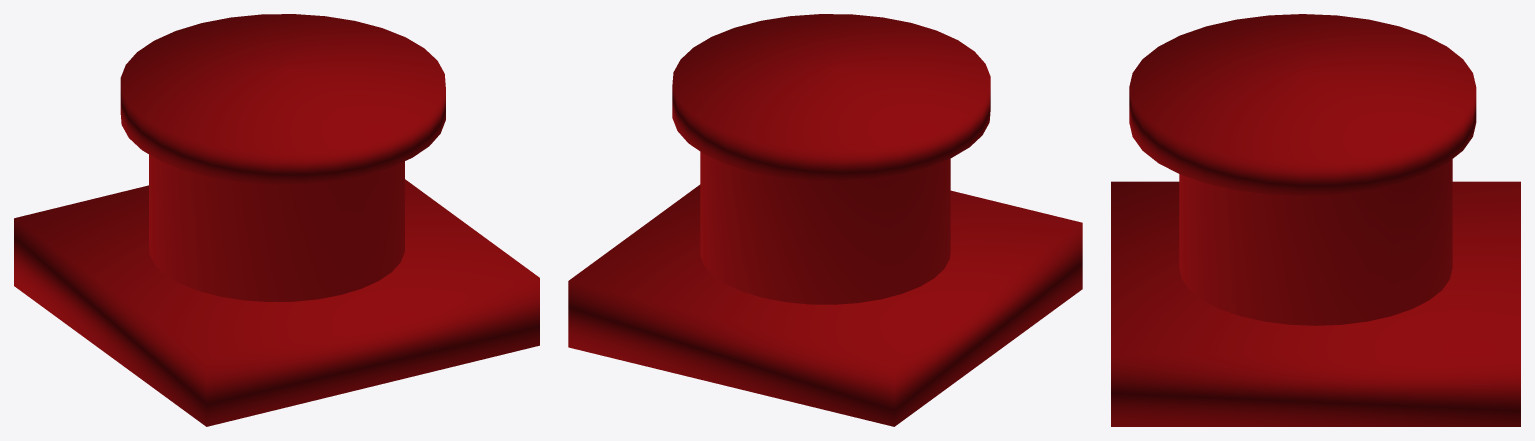
Rendered from Boutton.fbx.
3 renders of one model, left to right at view 1: azimuth 30°, elevation 25°; view 2: azimuth 150°, elevation 25°; view 3: azimuth 270°, elevation 25°, orthographic. The views are drawn at different scales.
Parts seen in each view (by area): view 1: BoutonPresion; view 2: BoutonPresion; view 3: BoutonPresion.
Boxes of the visible parts, x1,y1,x2,y2 form: BoutonPresion: [14, 14, 539, 426]; BoutonPresion: [568, 14, 1082, 426]; BoutonPresion: [1111, 14, 1520, 426].
Size of the model in its own units: 21 by 15.28 by 21.
